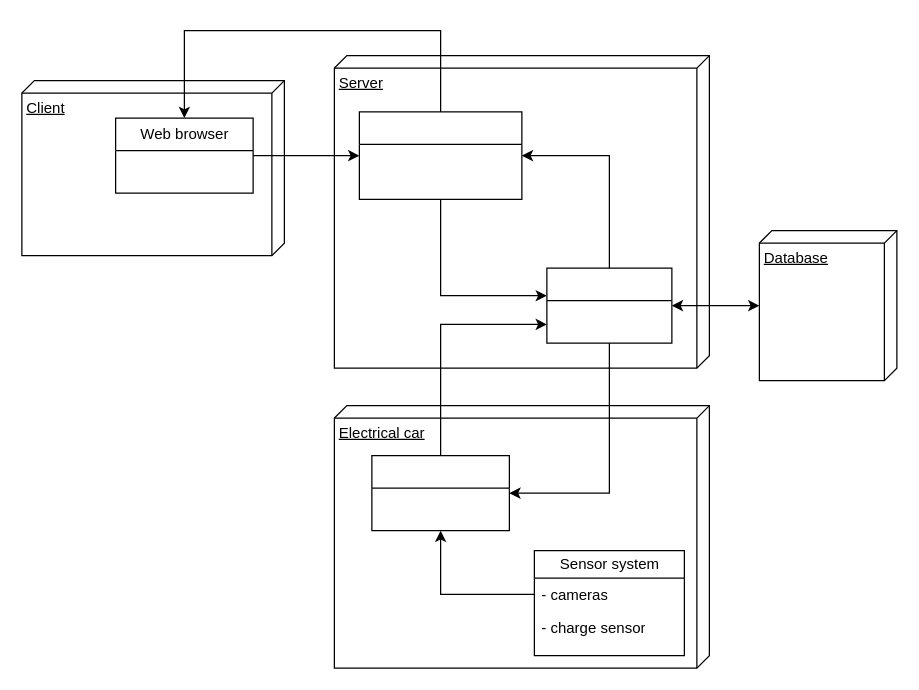
This 919x690 diagram has some shape labels left out. The shapes that lost their labels are listed below. From the top down, each one's centre as x and y in pixels, then its label:
At pixel 440 155: "Web server logic".
At pixel 609 305: "Application".
At pixel 440 492: "Car's inner OS".
